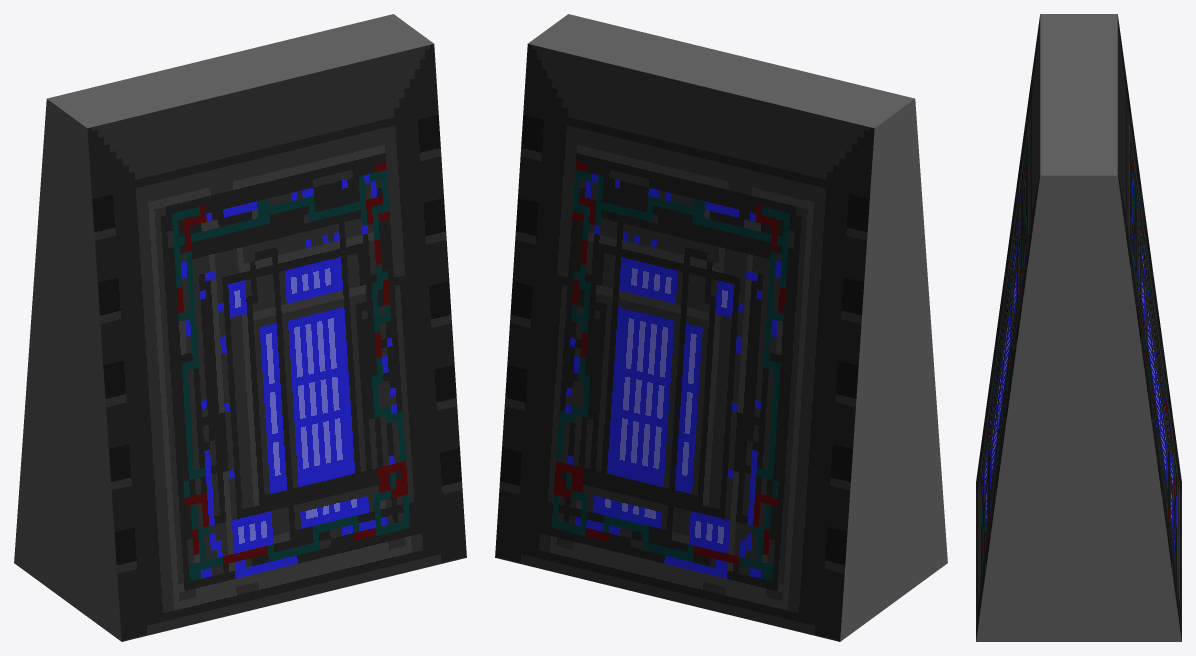
The picture shows the model from 3 angles, left to right: view 1: azimuth 30°, elevation 25°; view 2: azimuth 150°, elevation 25°; view 3: azimuth 270°, elevation 25°; orthographic projection. The views are drawn at different scales.
Parts seen in each view (by area): view 1: ss3d_27_probe; view 2: ss3d_27_probe; view 3: ss3d_27_probe.
Part boxes in pixels (x1,y1,x2,y2): ss3d_27_probe: (14, 14, 466, 641); ss3d_27_probe: (495, 14, 947, 641); ss3d_27_probe: (976, 14, 1181, 641).
Bounding box in the file's own units: 3.08 × 4.15 × 1.66.
1 material, 1 textured.
